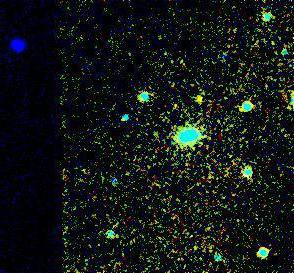star: (183, 84, 213, 114)
